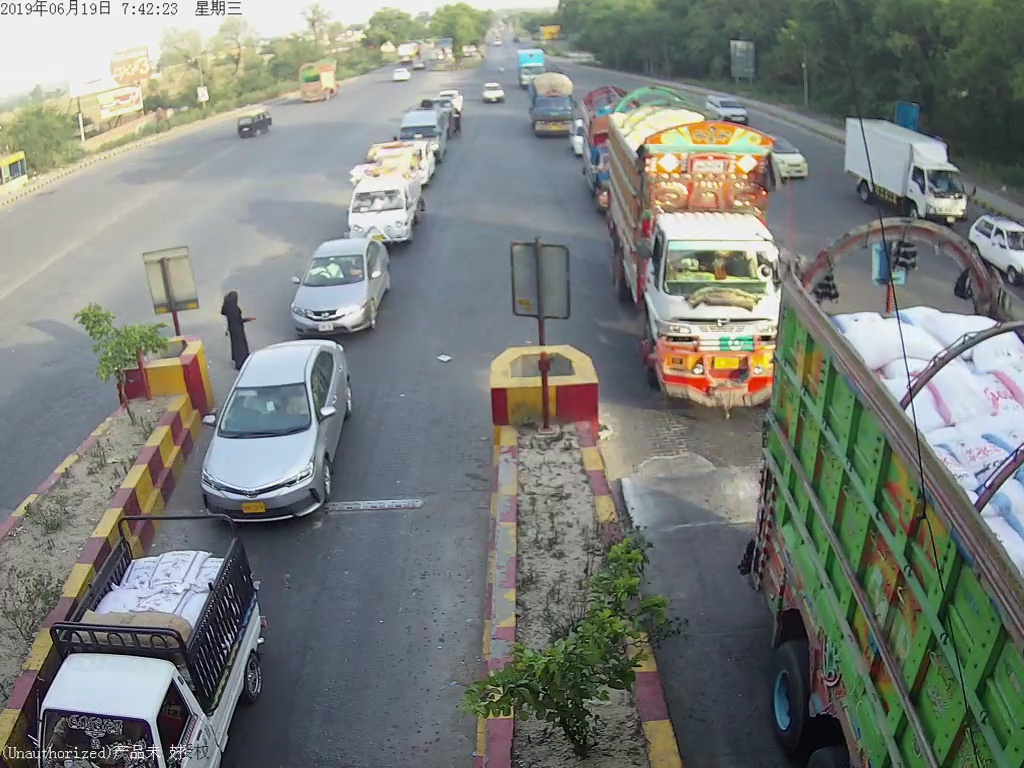Cat-1: (202, 351, 368, 517), (282, 242, 397, 334)
Cat-2: (345, 175, 421, 237)
Cat-4: (609, 108, 767, 417)
